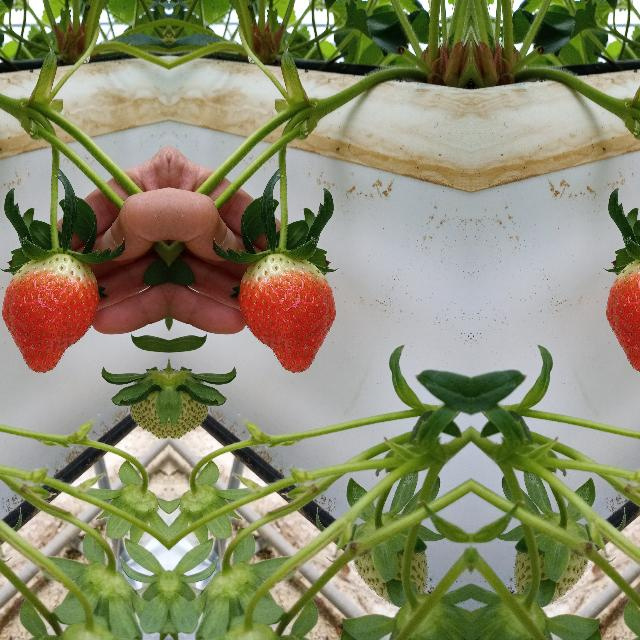Health_100: (0, 252, 100, 374), (237, 252, 336, 374), (605, 252, 640, 374)
